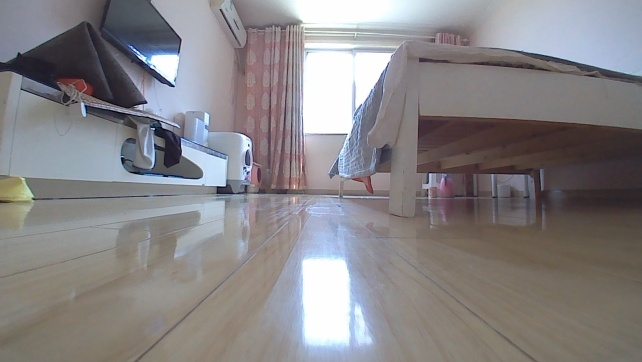TV_stand: (0, 65, 231, 200)
bed: (325, 36, 641, 219)
wire: (51, 77, 88, 137)
